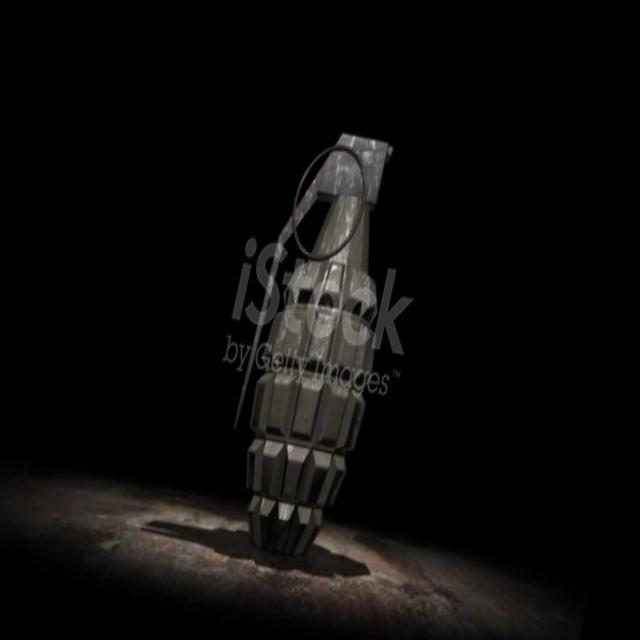grenade: (205, 123, 428, 582)
